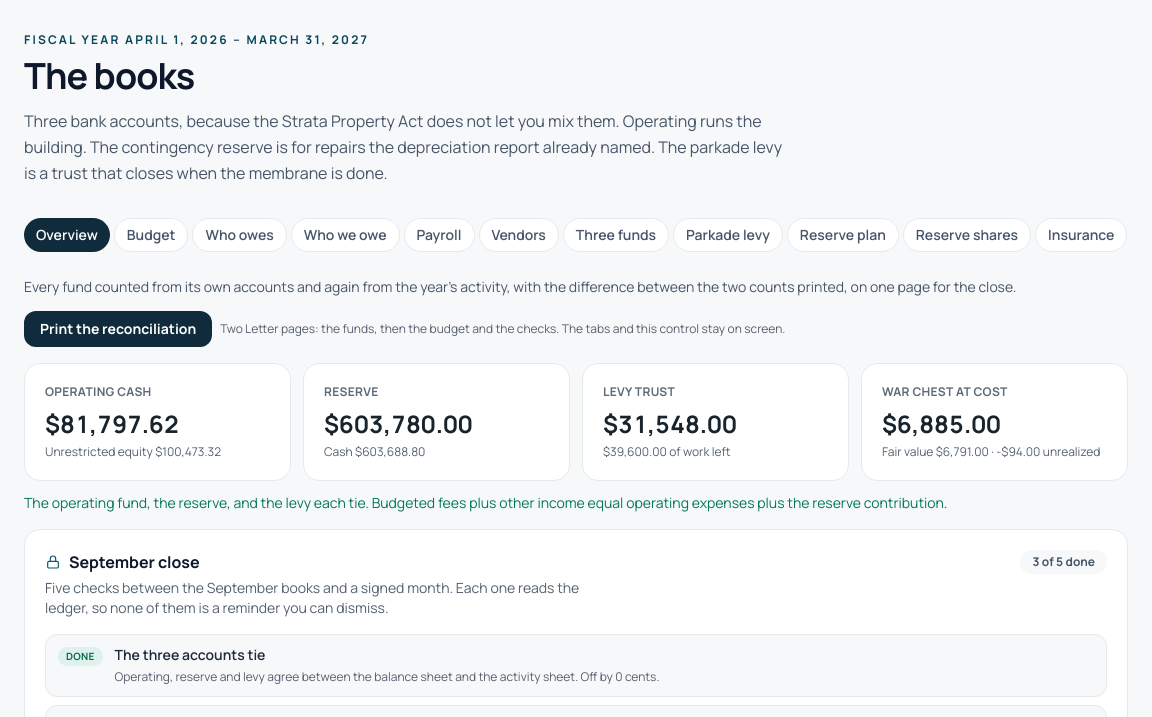
/accounting?period= › draws the reserve fund five years out from the books and the report
Click the button "Reserve plan": [843, 235] box [787,218,899,252]
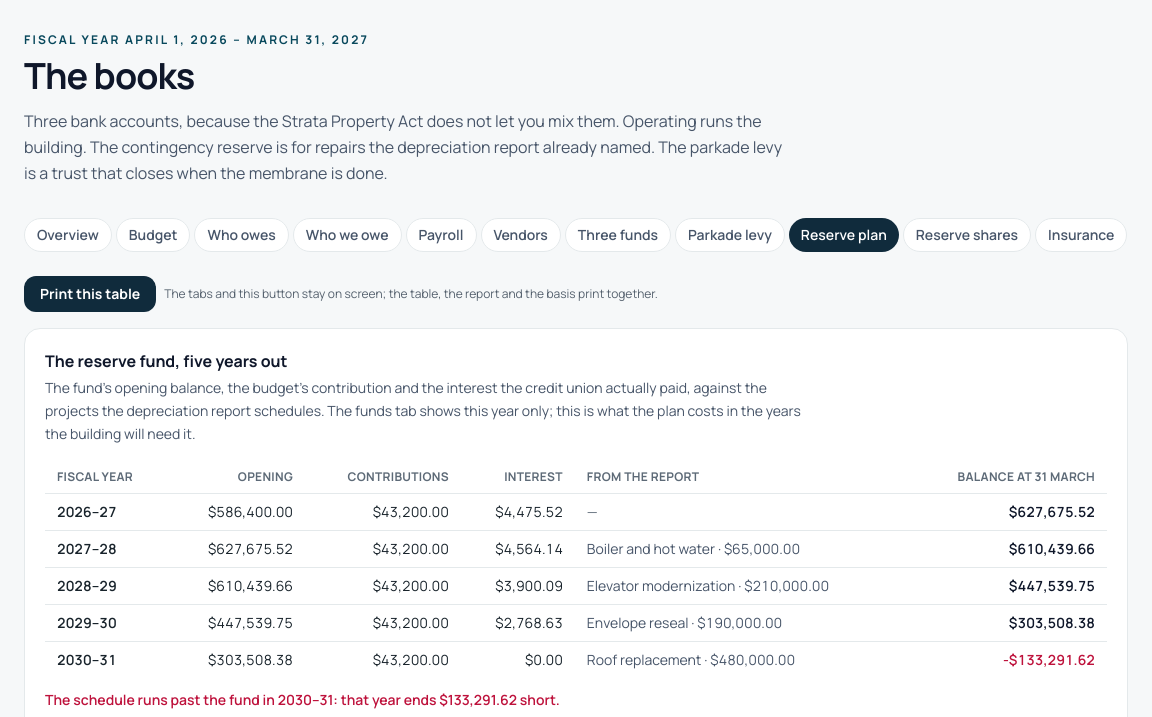
expect the text "The reserve fund, five years out" is shown: met, box [45,350,288,372]
expect the text "2026–27" is shown: met, box [45,494,170,531]
expect the text "$627,675.52" is shown: met, box [906,494,1107,531]
